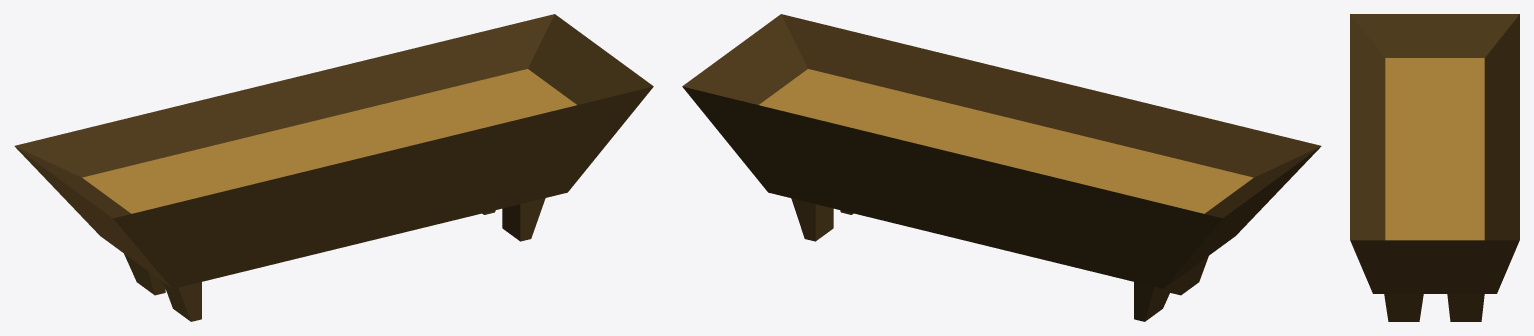
File: trough.fbx
3 views of the same model, side by side, from view 1: azimuth 30°, elevation 25°; view 2: azimuth 150°, elevation 25°; view 3: azimuth 270°, elevation 25° (orthographic). The views are drawn at different scales.
Parts seen in each view (by area): view 1: trough; view 2: trough; view 3: trough.
Part boxes in pixels (bbox=[...]): trough: bbox=[14, 14, 653, 321]; trough: bbox=[682, 14, 1321, 321]; trough: bbox=[1350, 14, 1519, 321].
Bounding box in the file's own units: 273 × 69.72 × 86.67.
